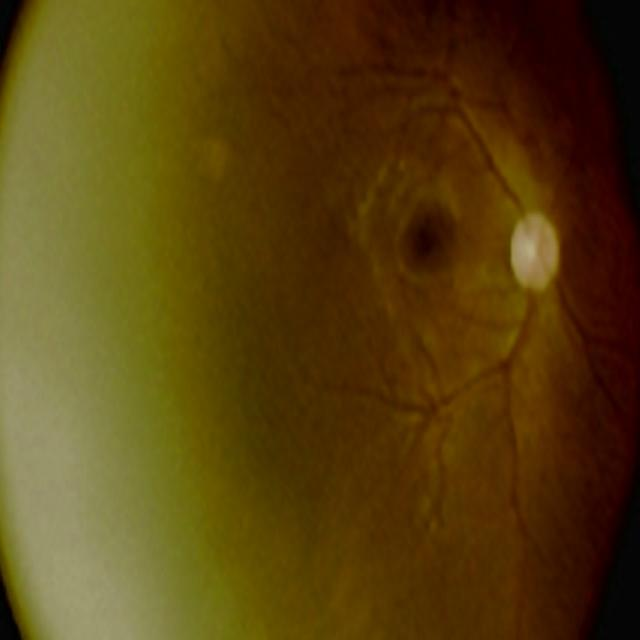optic-nerve: (488, 171, 580, 352)
